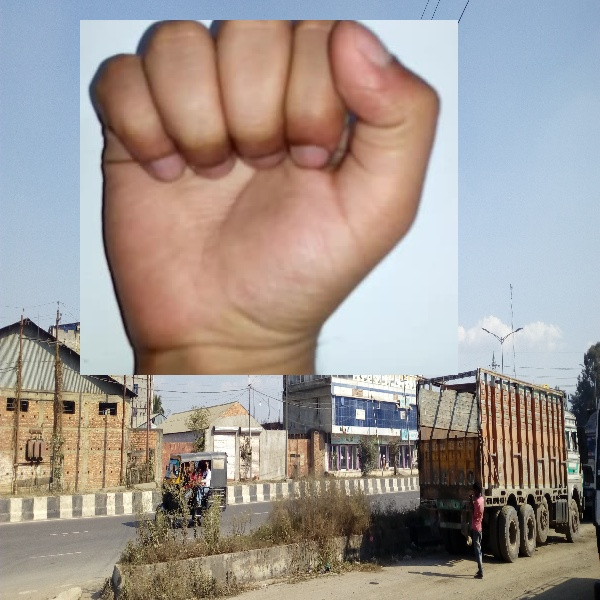A: (80, 20, 458, 375)
